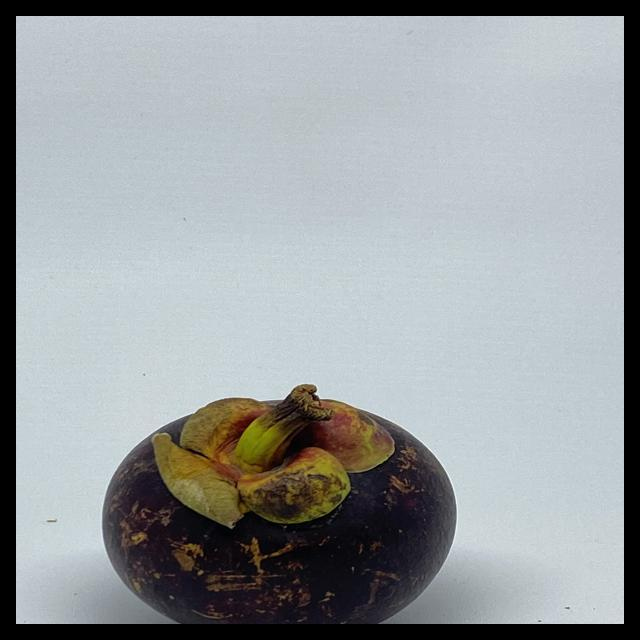mangosteen: (97, 365, 484, 624)
